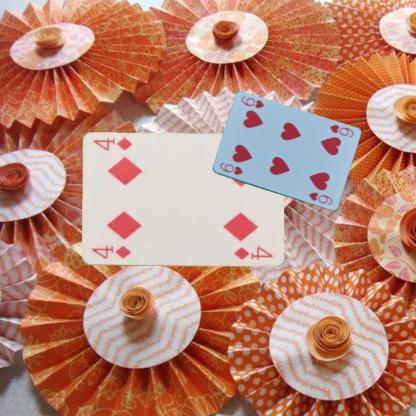4d: (89, 243, 132, 261)
6h: (327, 122, 355, 139), (217, 160, 244, 176)
